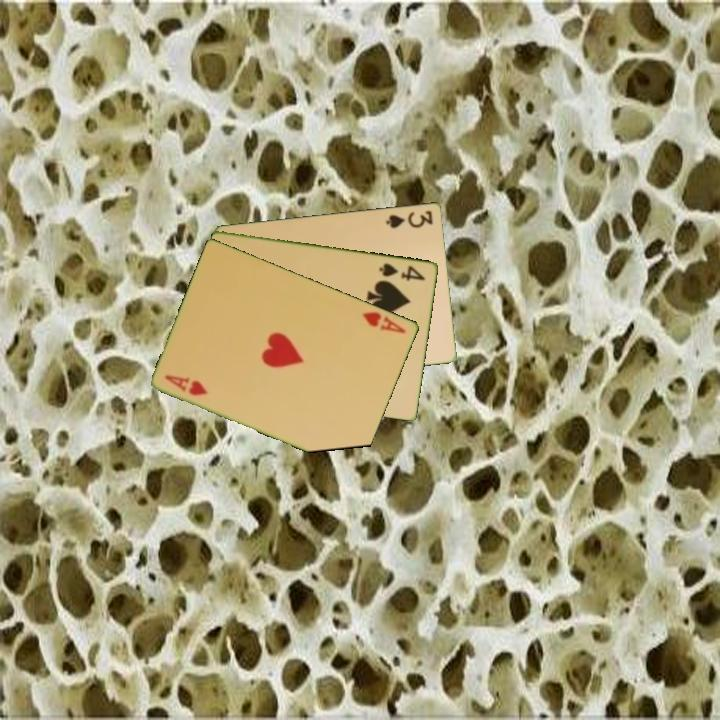3s: (383, 207, 436, 231)
4s: (376, 259, 428, 284)
Ah: (359, 307, 409, 336), (162, 371, 211, 398)
